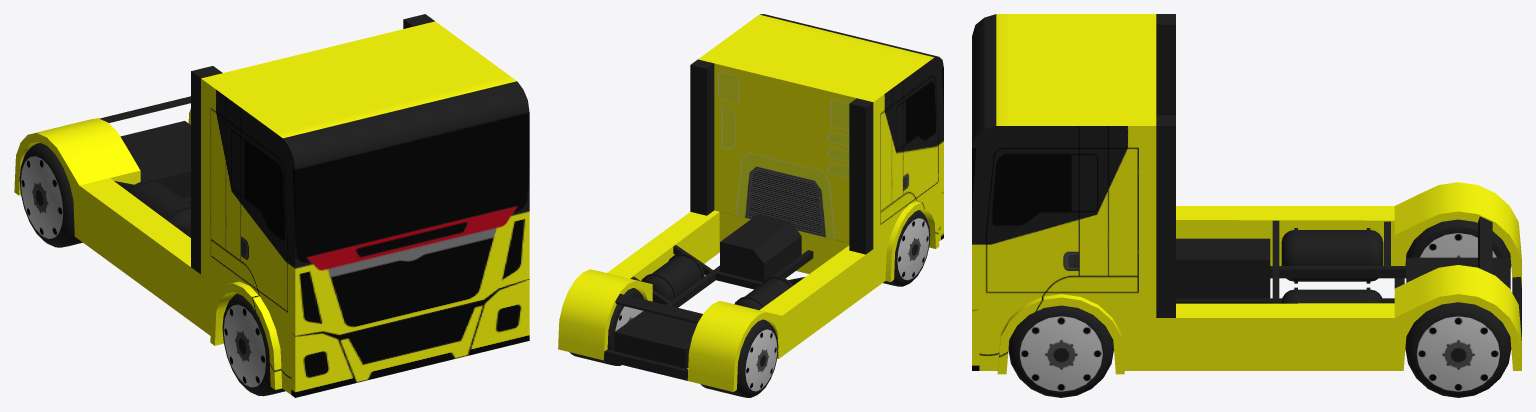
File: Truck.fbx
3 views of the same model, side by side, from view 1: azimuth 30°, elevation 25°; view 2: azimuth 150°, elevation 25°; view 3: azimuth 270°, elevation 25° (orthographic). The views are drawn at different scales.
Parts seen in each view (by area): view 1: Body_Truck, Backward_Wheel_R, Forward_Wheel_R; view 2: Body_Truck, Backward_Wheel_R, Forward_Wheel_R, Backward_Wheel_L; view 3: Body_Truck, Backward_Wheel_L, Forward_Wheel_L, Backward_Wheel_R.
Boxes of the visible parts, left/top/right/bottom form: Body_Truck: left=14, top=14, right=529, bottom=397; Backward_Wheel_R: left=19, top=143, right=82, bottom=247; Forward_Wheel_R: left=222, top=293, right=285, bottom=396; Body_Truck: left=558, top=14, right=943, bottom=391; Backward_Wheel_R: left=700, top=319, right=778, bottom=397; Forward_Wheel_R: left=883, top=210, right=930, bottom=286; Backward_Wheel_L: left=569, top=288, right=644, bottom=365; Body_Truck: left=972, top=14, right=1521, bottom=374; Backward_Wheel_L: left=1405, top=302, right=1511, bottom=397; Forward_Wheel_L: left=1008, top=305, right=1113, bottom=397; Backward_Wheel_R: left=1405, top=219, right=1511, bottom=267.
Bounding box in the file's own units: 2.13 × 2.28 × 4.15.
Materials: 1 (1 with a texture image).
